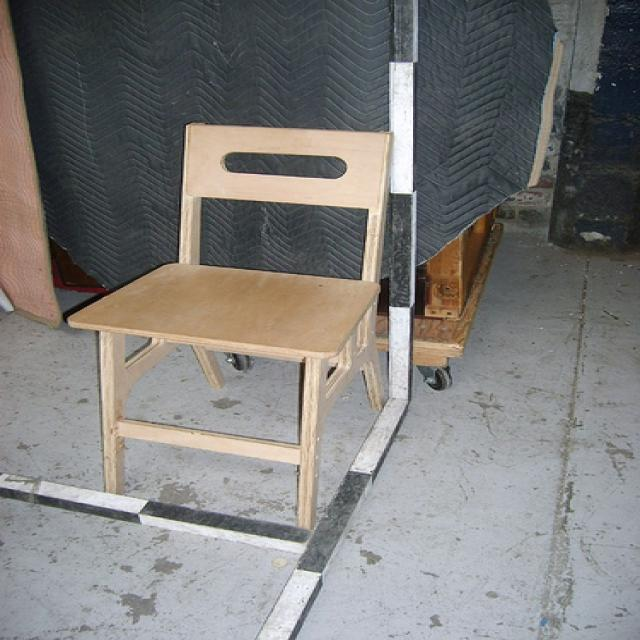chair: (65, 120, 396, 530)
